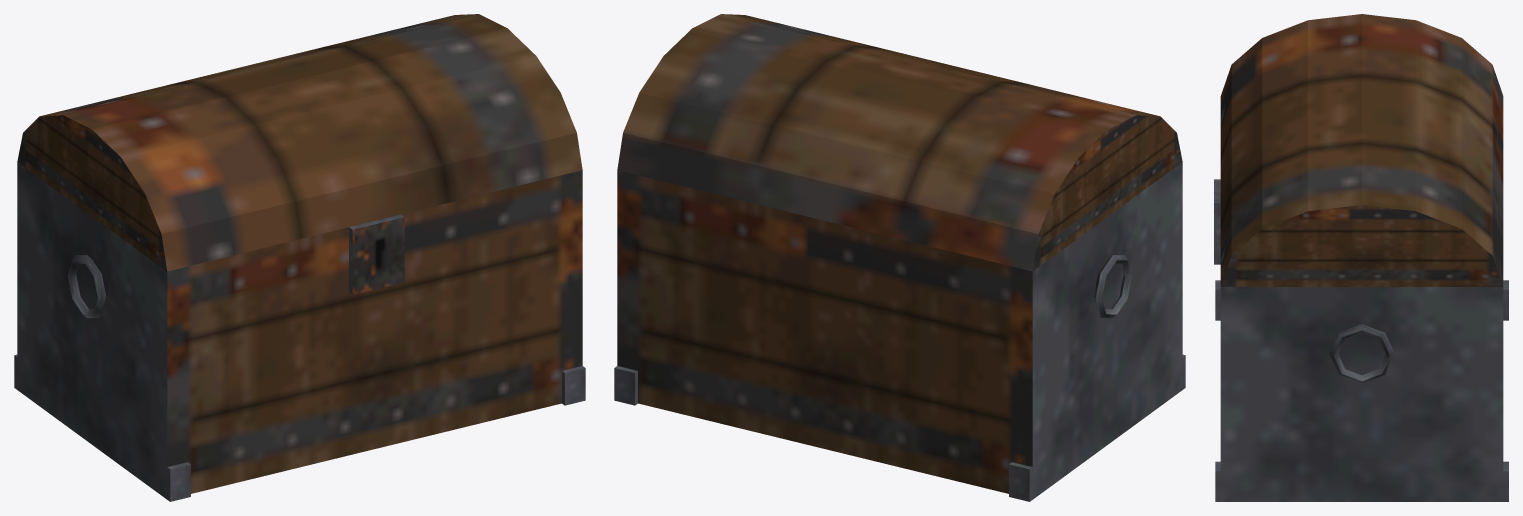
File: chest_wood.fbx
The picture shows the model from 3 angles, left to right: view 1: azimuth 30°, elevation 25°; view 2: azimuth 150°, elevation 25°; view 3: azimuth 270°, elevation 25°; orthographic projection. The views are drawn at different scales.
Parts seen in each view (by area): view 1: chest_wood, chest_wood_lid; view 2: chest_wood, chest_wood_lid; view 3: chest_wood_lid, chest_wood.
Boxes of the visible parts, x1,y1,x2,y2 form: chest_wood: (14,162,585,501); chest_wood_lid: (17,14,582,271); chest_wood: (614,162,1185,501); chest_wood_lid: (617,14,1182,271); chest_wood_lid: (1220,14,1503,286); chest_wood: (1214,179,1508,501).
Bounding box in the file's own units: 0.836 × 0.58 × 0.522.
Materials: 1 (1 with a texture image).
